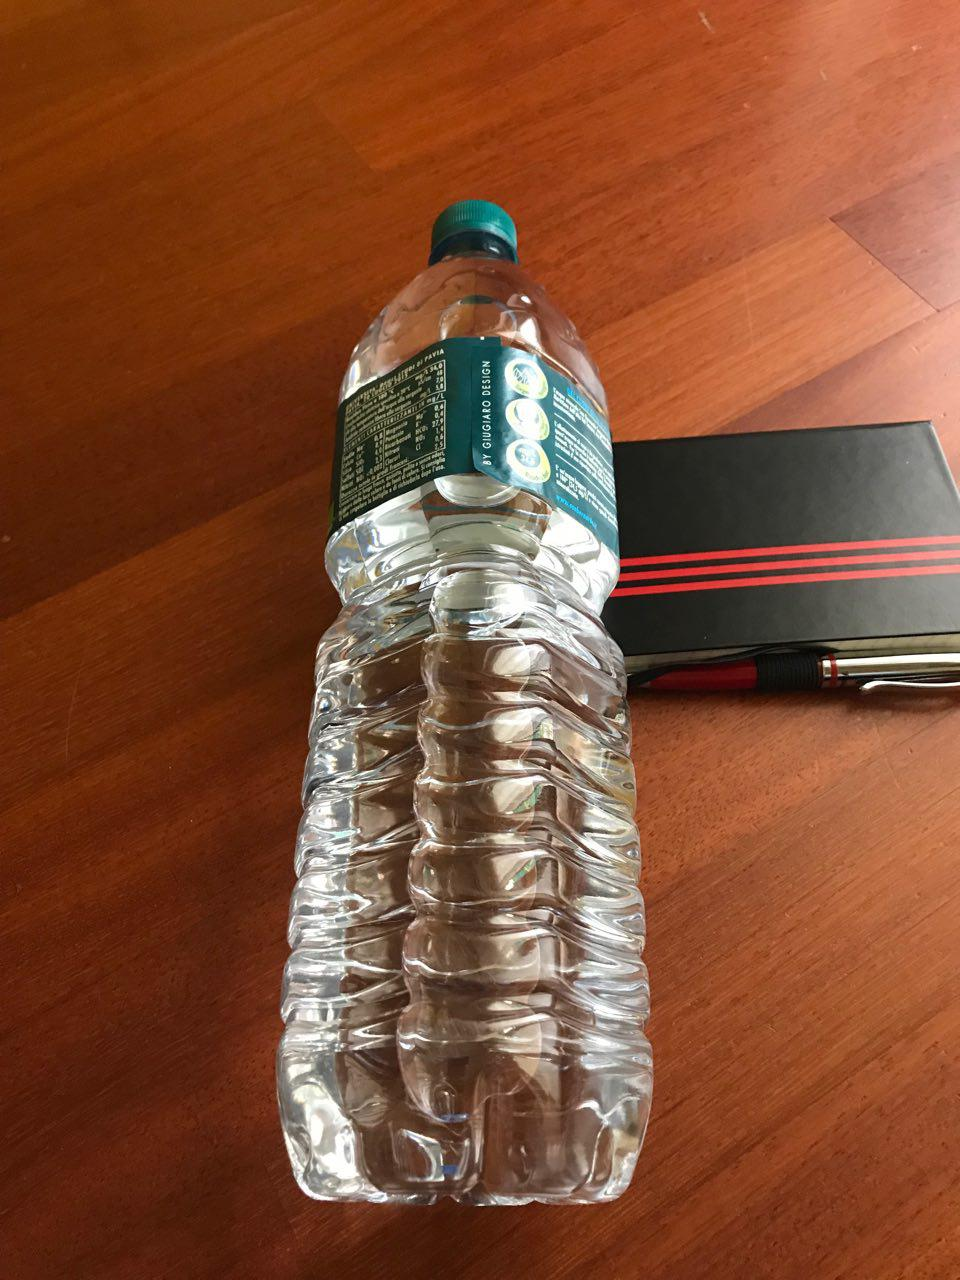san_bernardo: (271, 196, 657, 1212)
